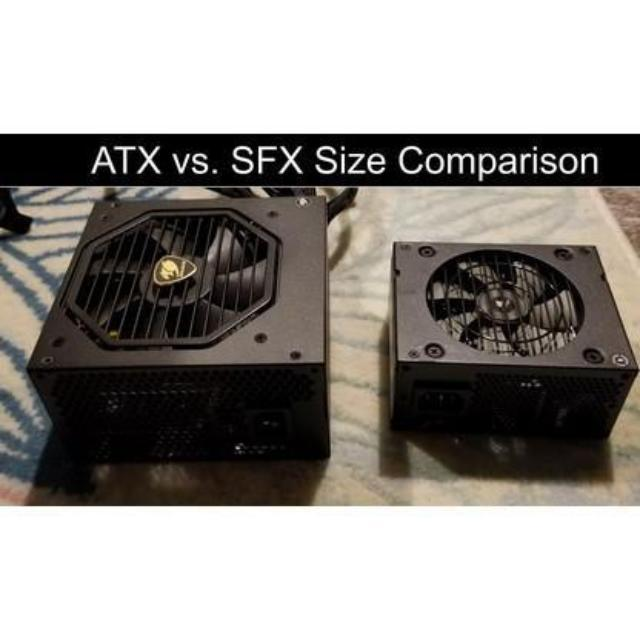PSU: (3, 190, 351, 447), (383, 230, 640, 447)
